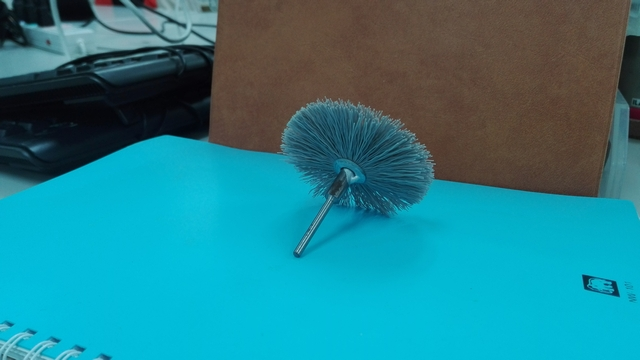TOOL: (241, 84, 470, 260)
